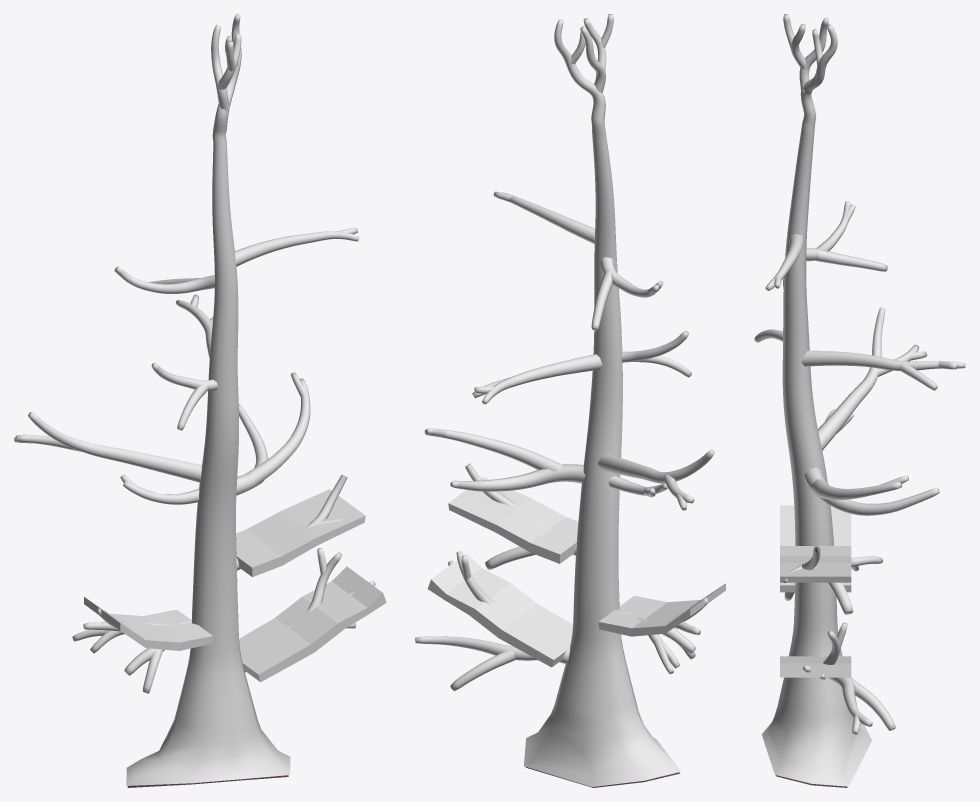
File: ArbrePlatform.fbx
3 renders of one model, left to right at view 1: azimuth 30°, elevation 25°; view 2: azimuth 150°, elevation 25°; view 3: azimuth 270°, elevation 25°, orthographic.
Visible parts, largest first — view 1: tree, MeshBranch1, MeshBranch3, MeshBranch2, Branch2, Branch1, Branch3; view 2: tree, MeshBranch1, MeshBranch3, MeshBranch2, Branch1, Branch2, Branch3; view 3: tree, MeshBranch3, Branch1, MeshBranch2, MeshBranch1, Branch3.
Boxes of the visible parts, x1,y1,x2,y2 form: tree: (14,14,359,787); MeshBranch1: (239,566,386,682); MeshBranch3: (236,489,365,577); MeshBranch2: (84,597,213,650); Branch2: (72,608,191,693); Branch1: (244,548,375,672); Branch3: (236,474,352,570); tree: (424,14,714,787); MeshBranch1: (427,553,572,667); MeshBranch3: (448,477,578,563); MeshBranch2: (598,583,725,636); Branch1: (415,551,569,691); Branch2: (609,597,708,674); Branch3: (465,463,576,569); tree: (754,14,965,787); MeshBranch3: (780,546,851,582); Branch1: (803,622,895,734); MeshBranch2: (780,505,851,592); MeshBranch1: (780,656,851,677); Branch3: (783,546,853,614).
Bounding box in the file's own units: 1000 × 2313 × 591.
2 materials, 1 textured.
